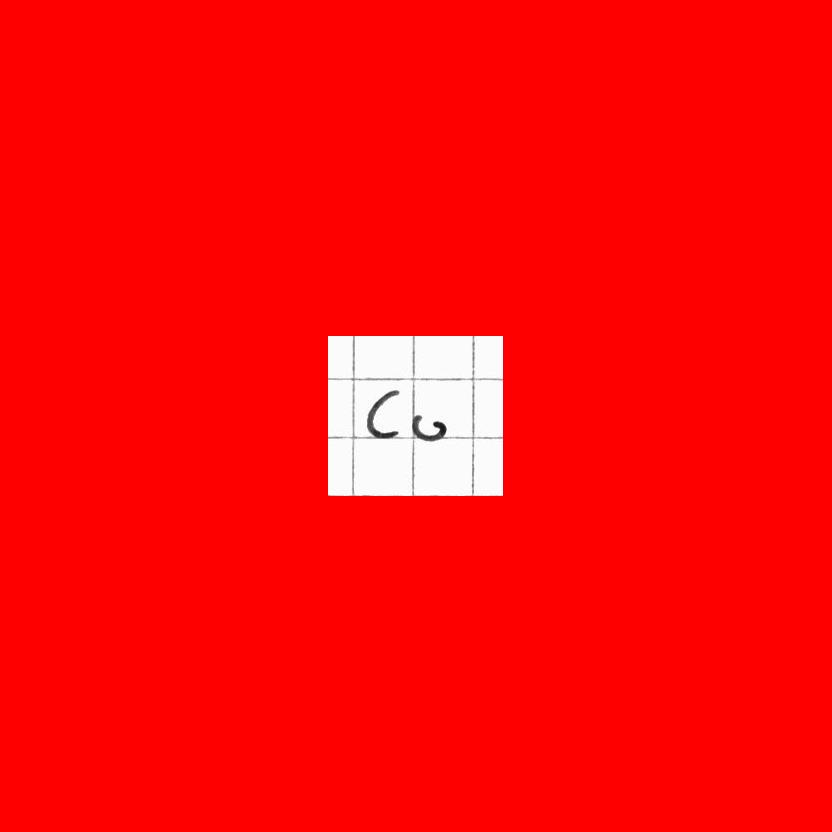Char: (361, 386, 402, 441), (409, 410, 446, 442)
